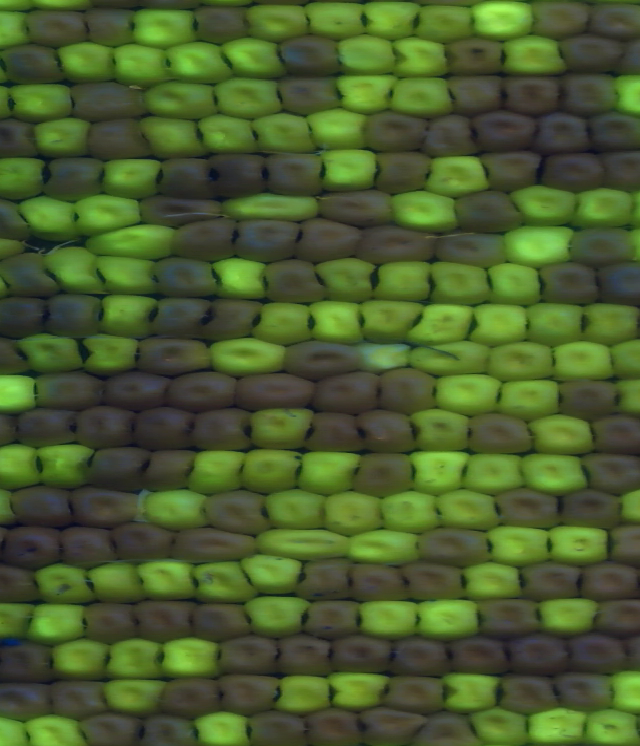fluorescent: (387, 188, 476, 240), (85, 220, 186, 261), (494, 223, 585, 267), (91, 292, 172, 341), (404, 337, 498, 379), (338, 526, 428, 569), (289, 447, 366, 497), (406, 297, 480, 349), (310, 258, 385, 308), (469, 298, 537, 353), (318, 486, 387, 540), (485, 522, 558, 573), (433, 364, 507, 414), (185, 557, 265, 603), (424, 255, 499, 304), (233, 445, 308, 494), (529, 409, 599, 461), (300, 104, 377, 151), (437, 666, 505, 719), (272, 666, 341, 718), (189, 108, 262, 157), (492, 373, 566, 421), (463, 443, 530, 496), (128, 2, 203, 49), (432, 485, 502, 535), (250, 402, 321, 451), (214, 74, 291, 119), (357, 292, 429, 340), (166, 36, 235, 86), (101, 44, 176, 90), (44, 244, 109, 297), (422, 152, 495, 199), (185, 446, 253, 496), (367, 259, 436, 308), (133, 113, 206, 159), (482, 335, 560, 378), (17, 605, 95, 648), (89, 253, 161, 299), (411, 409, 480, 457), (324, 667, 396, 713), (503, 29, 569, 79), (98, 153, 168, 200), (132, 557, 202, 604), (220, 195, 326, 226), (391, 33, 458, 82), (545, 520, 616, 566), (205, 337, 290, 375), (5, 79, 80, 122), (374, 485, 444, 531), (260, 484, 330, 530), (145, 487, 212, 535), (85, 556, 149, 606), (13, 192, 81, 239), (464, 1, 536, 45), (239, 2, 316, 43), (33, 443, 96, 493), (387, 69, 455, 115), (248, 591, 313, 639), (507, 185, 583, 226), (358, 596, 427, 641), (550, 336, 617, 382), (478, 259, 548, 303), (257, 295, 314, 349), (415, 595, 484, 639), (56, 41, 124, 85), (220, 34, 288, 78), (158, 639, 226, 683), (522, 301, 587, 347), (74, 194, 148, 234), (473, 702, 540, 746), (146, 79, 221, 118), (314, 148, 385, 189), (571, 186, 640, 228), (99, 674, 168, 716), (410, 1, 482, 41), (76, 332, 144, 374), (302, 1, 379, 38), (48, 631, 111, 676), (252, 531, 352, 559), (309, 297, 366, 346), (405, 450, 473, 491), (239, 553, 310, 592), (27, 116, 96, 156), (455, 559, 524, 599), (15, 332, 79, 375), (337, 32, 399, 76), (209, 257, 269, 302), (248, 108, 315, 148), (357, 1, 425, 40), (580, 302, 640, 346), (33, 563, 96, 604), (332, 72, 391, 114), (523, 708, 588, 746), (537, 596, 602, 634), (0, 369, 48, 420), (524, 456, 592, 491), (191, 709, 254, 746), (0, 440, 45, 490), (104, 639, 166, 675), (20, 717, 95, 746), (583, 712, 640, 746), (0, 156, 47, 195), (608, 334, 640, 381), (0, 8, 36, 48), (0, 598, 34, 640), (0, 710, 38, 746), (609, 669, 640, 711), (0, 232, 39, 259)
nonfluorescent: (166, 521, 259, 569), (472, 588, 549, 643), (196, 148, 277, 200), (476, 146, 556, 197), (353, 219, 438, 267), (258, 147, 336, 199), (68, 402, 145, 454), (61, 481, 144, 529), (280, 337, 372, 380), (232, 219, 314, 267), (197, 488, 275, 538), (127, 336, 219, 378), (148, 254, 226, 303), (58, 80, 153, 120), (553, 376, 633, 423), (165, 367, 252, 410), (0, 520, 66, 576), (294, 211, 365, 263), (430, 225, 513, 269), (538, 150, 614, 197), (167, 221, 252, 263), (374, 369, 445, 419), (271, 74, 353, 117), (452, 189, 532, 233), (352, 407, 417, 461), (258, 256, 328, 306), (462, 407, 536, 454), (436, 34, 515, 78), (36, 154, 113, 199), (146, 295, 215, 345), (153, 673, 228, 719), (83, 116, 161, 160), (562, 484, 632, 533), (297, 598, 371, 644), (125, 401, 197, 448), (556, 70, 625, 119), (275, 634, 344, 682), (565, 225, 640, 269), (41, 292, 107, 342), (231, 373, 320, 410), (314, 371, 387, 416), (148, 159, 228, 200), (505, 634, 581, 677), (492, 668, 560, 716), (54, 524, 119, 574), (130, 598, 202, 643), (292, 560, 358, 609), (443, 636, 518, 679), (132, 194, 229, 227), (557, 35, 637, 75), (99, 370, 179, 410), (358, 707, 440, 746), (490, 489, 566, 531), (309, 192, 400, 227), (320, 634, 405, 671), (303, 407, 367, 456), (5, 484, 76, 528), (0, 247, 61, 298), (344, 559, 411, 605), (388, 636, 458, 680), (86, 445, 151, 492), (0, 43, 69, 87), (399, 566, 473, 607), (365, 151, 437, 193), (375, 677, 454, 715), (186, 410, 252, 455), (187, 602, 263, 641), (116, 518, 180, 564), (576, 560, 640, 606), (466, 103, 536, 145), (208, 675, 285, 713), (560, 629, 627, 672), (204, 298, 264, 346), (217, 634, 285, 676), (350, 453, 421, 493), (75, 600, 146, 640), (80, 7, 143, 52), (540, 259, 600, 306), (580, 449, 640, 496), (443, 72, 507, 116), (25, 8, 95, 48), (556, 669, 618, 714), (275, 33, 343, 74), (44, 681, 115, 720), (0, 635, 57, 683), (531, 113, 596, 155), (246, 707, 316, 746), (360, 108, 428, 148), (519, 559, 585, 600), (302, 703, 366, 745), (189, 3, 251, 46), (420, 528, 498, 562), (589, 591, 640, 643), (530, 1, 594, 42), (501, 73, 565, 114), (590, 410, 640, 461), (418, 115, 477, 158), (31, 371, 96, 409), (82, 707, 145, 746), (16, 409, 82, 446), (582, 109, 640, 150), (0, 682, 58, 722), (414, 712, 482, 746), (592, 260, 640, 307), (594, 148, 640, 197), (0, 297, 49, 343), (141, 452, 195, 491), (0, 559, 44, 605), (0, 189, 37, 241), (585, 1, 640, 34), (137, 714, 192, 746), (604, 521, 640, 566), (0, 333, 33, 378), (0, 121, 41, 153)
